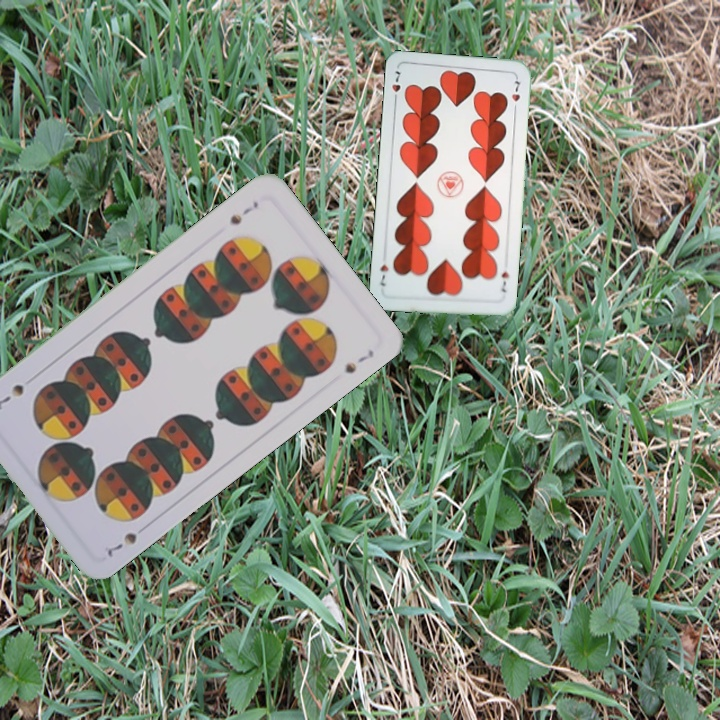H7: (388, 66, 403, 106), (497, 268, 511, 295)
S7: (100, 528, 140, 560), (225, 196, 261, 228)
